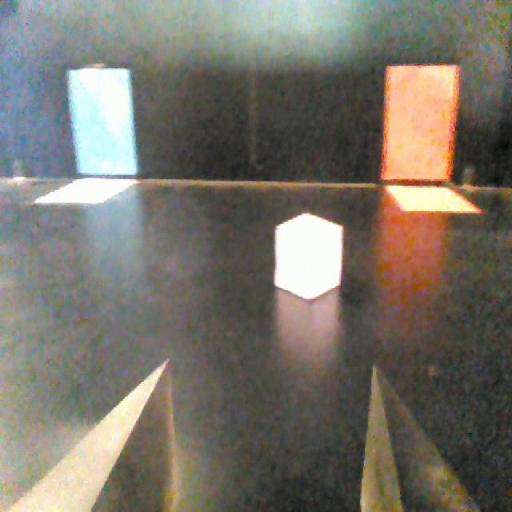cube: (266, 208, 346, 303)
